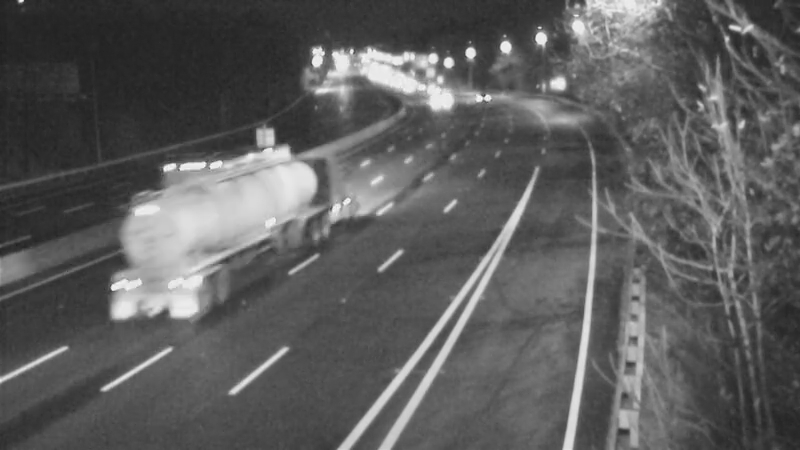vehicle: (154, 191, 234, 271), (456, 70, 506, 120), (419, 72, 469, 122)
